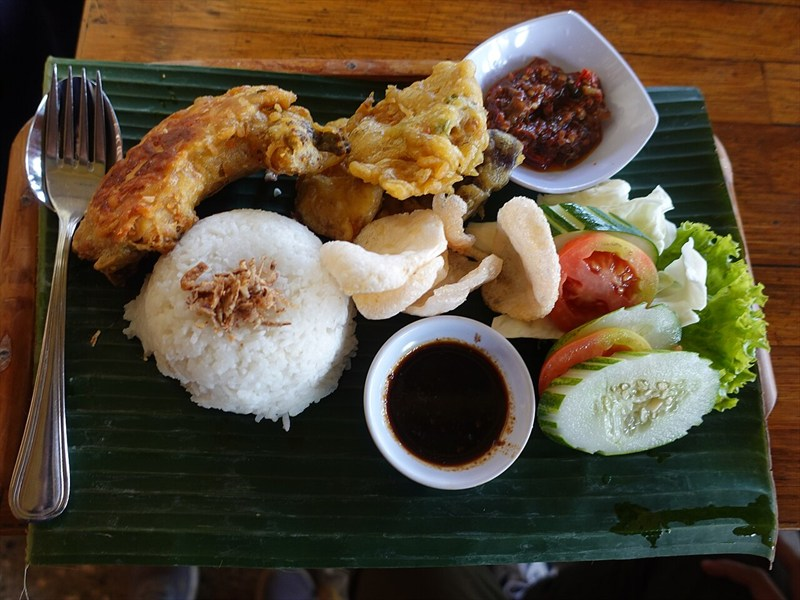Ayam Goreng: (142, 44, 743, 471)
